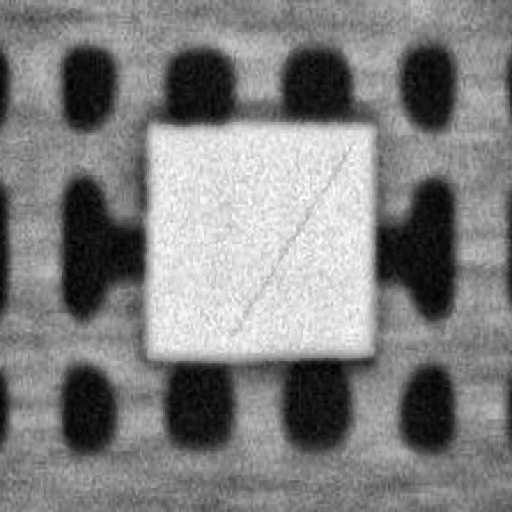DIE_CRACK: (345, 94, 512, 222)
